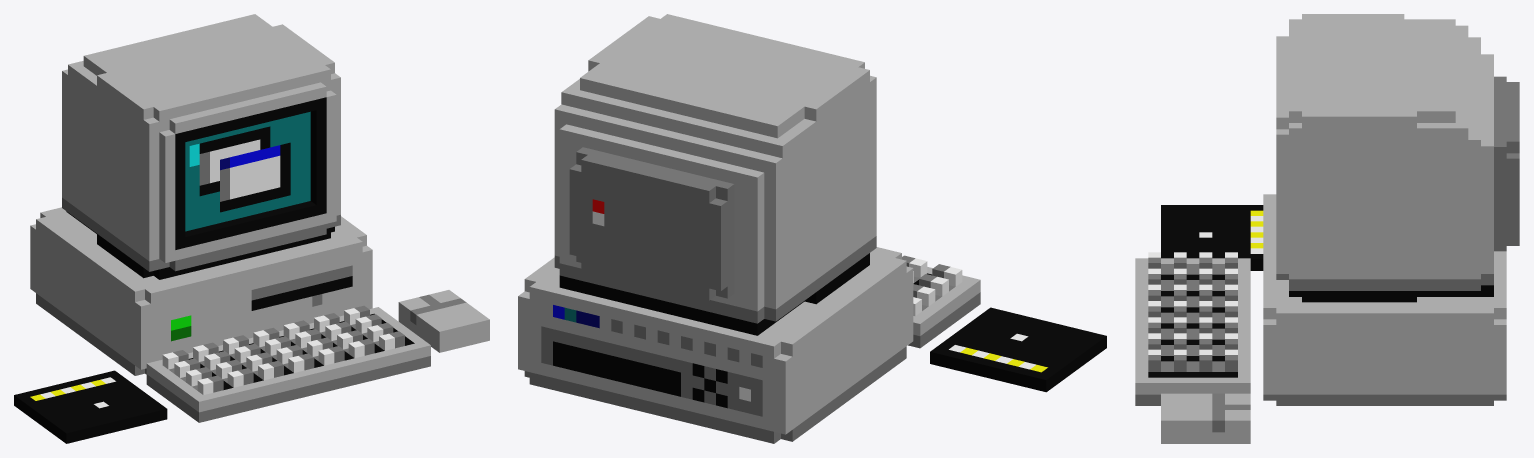
File: computer.glb
3 views of the same model, side by side, from view 1: azimuth 30°, elevation 25°; view 2: azimuth 150°, elevation 25°; view 3: azimuth 270°, elevation 25° (orthographic). The views are drawn at different scales.
Parts seen in each view (by area): view 1: Object_2.952; view 2: Object_2.952; view 3: Object_2.952.
Part boxes in pixels (box(x1,y1,x2,y2)): Object_2.952: box(14, 14, 489, 443); Object_2.952: box(518, 14, 1106, 443); Object_2.952: box(1135, 14, 1519, 443).
Size of the model in its own units: 4.2 by 2.4 by 3.
Materials: 1 (1 with a texture image).
